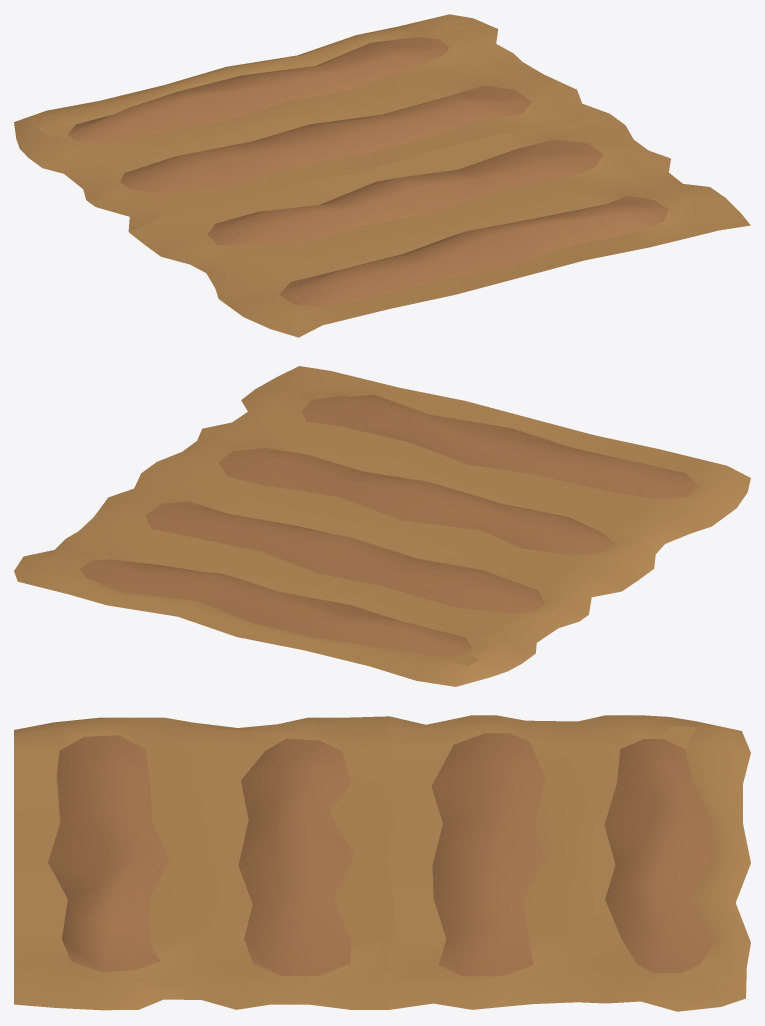
Rendered from Building_model_0_Fieldbackfrontleftedge001.fbx.
3 views of the same model, one above another, from view 1: azimuth 30°, elevation 25°; view 2: azimuth 150°, elevation 25°; view 3: azimuth 270°, elevation 25° (orthographic). The views are drawn at different scales.
Parts seen in each view (by area): view 1: Building_model_0_Fieldbackfrontleftedge001; view 2: Building_model_0_Fieldbackfrontleftedge001; view 3: Building_model_0_Fieldbackfrontleftedge001.
Part boxes in pixels (box(x1,y1,x2,y2)): Building_model_0_Fieldbackfrontleftedge001: box(14, 14, 750, 337); Building_model_0_Fieldbackfrontleftedge001: box(14, 366, 750, 686); Building_model_0_Fieldbackfrontleftedge001: box(14, 715, 750, 1011).
Size of the model in its own units: 2.8 by 0.11 by 2.94.
